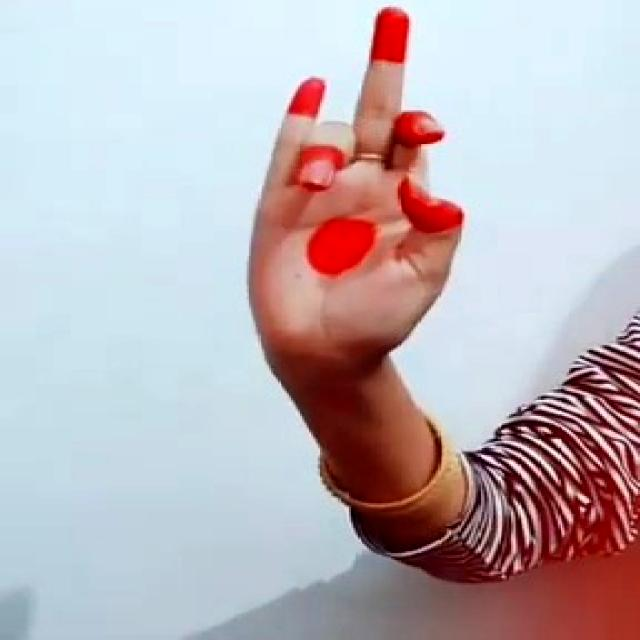Shukatunda: (235, 9, 488, 357)
bangle: (302, 406, 484, 524)
